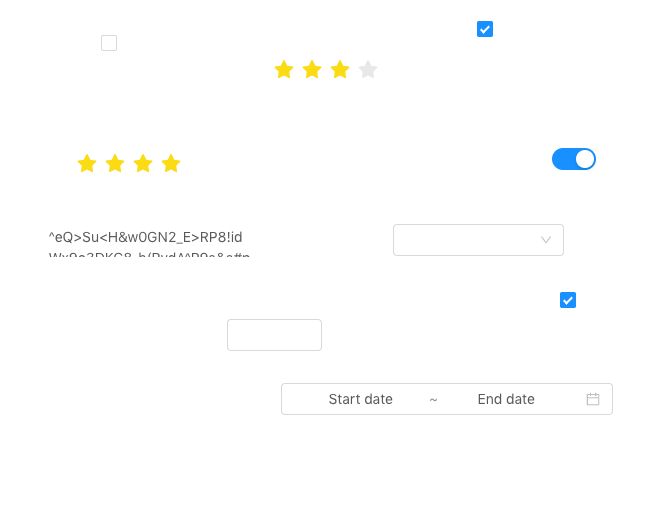Checkbox: (560, 289, 576, 310), (477, 18, 493, 39), (101, 32, 117, 53)
Input: (227, 319, 322, 351)
RangePicker: (281, 383, 653, 415)
Rate: (274, 53, 394, 85), (77, 147, 197, 179)
Select: (393, 224, 564, 256)
Switch: (552, 147, 596, 171)
Text: (49, 226, 254, 257)
